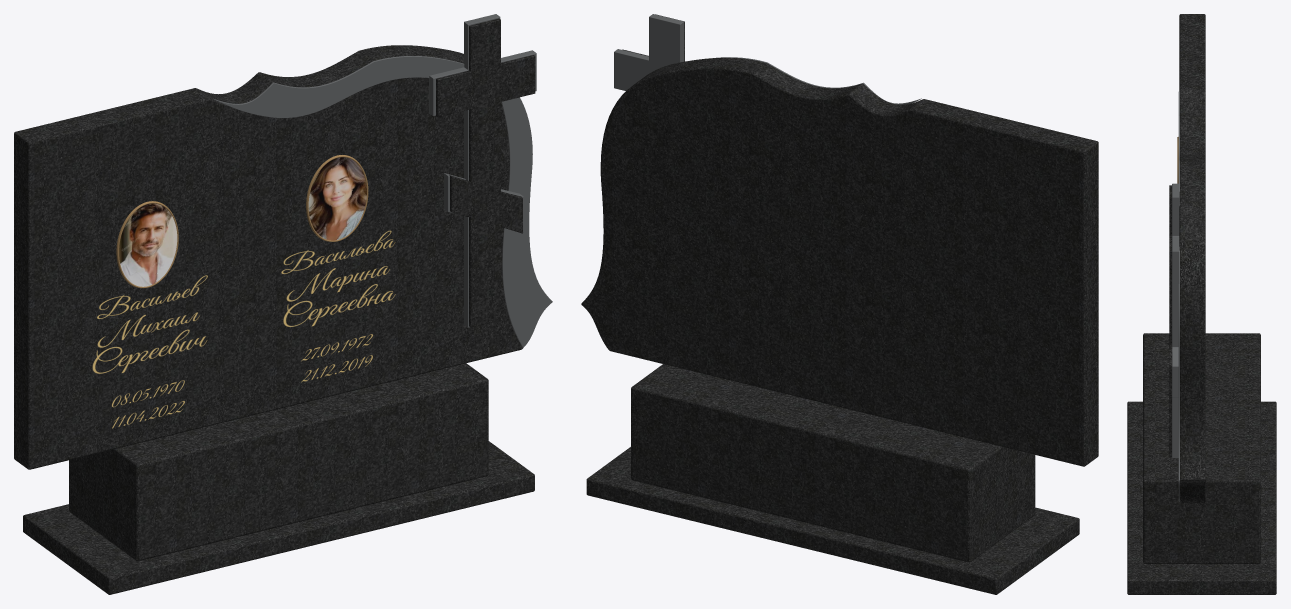
The picture shows the model from 3 angles, left to right: view 1: azimuth 30°, elevation 25°; view 2: azimuth 150°, elevation 25°; view 3: azimuth 270°, elevation 25°; orthographic projection. The views are drawn at different scales.
Visible parts, largest first — view 1: SM_B37; view 2: SM_B37; view 3: SM_B37.
Part boxes in pixels (x1,y1,x2,y2): SM_B37: (14, 14, 552, 594); SM_B37: (581, 14, 1098, 594); SM_B37: (1127, 14, 1276, 594).
Size of the model in its own units: 0.9947 by 0.831 by 0.285.
Materials: 10 (8 with a texture image).
